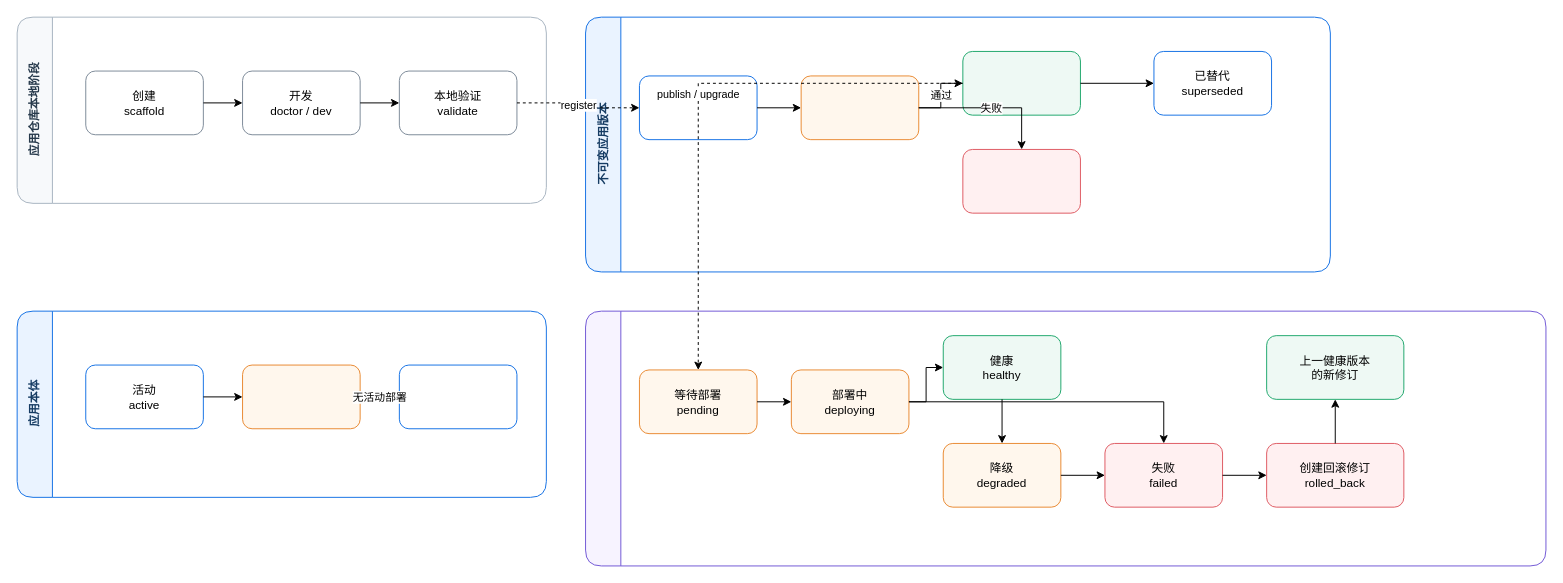
This 1563x583 diagram has some shape labels left out. Each missing label, with the box of its shape:
下线窗口 deprecated: (242, 364, 360, 429)
已归档 archived: (398, 364, 517, 429)
已拒绝 rejected: (962, 148, 1080, 213)
已注册 registered: (638, 75, 757, 140)
已验证 validated: (962, 50, 1080, 115)
环境部署修订: (585, 310, 1546, 566)
验证中 validating: (800, 75, 919, 140)
